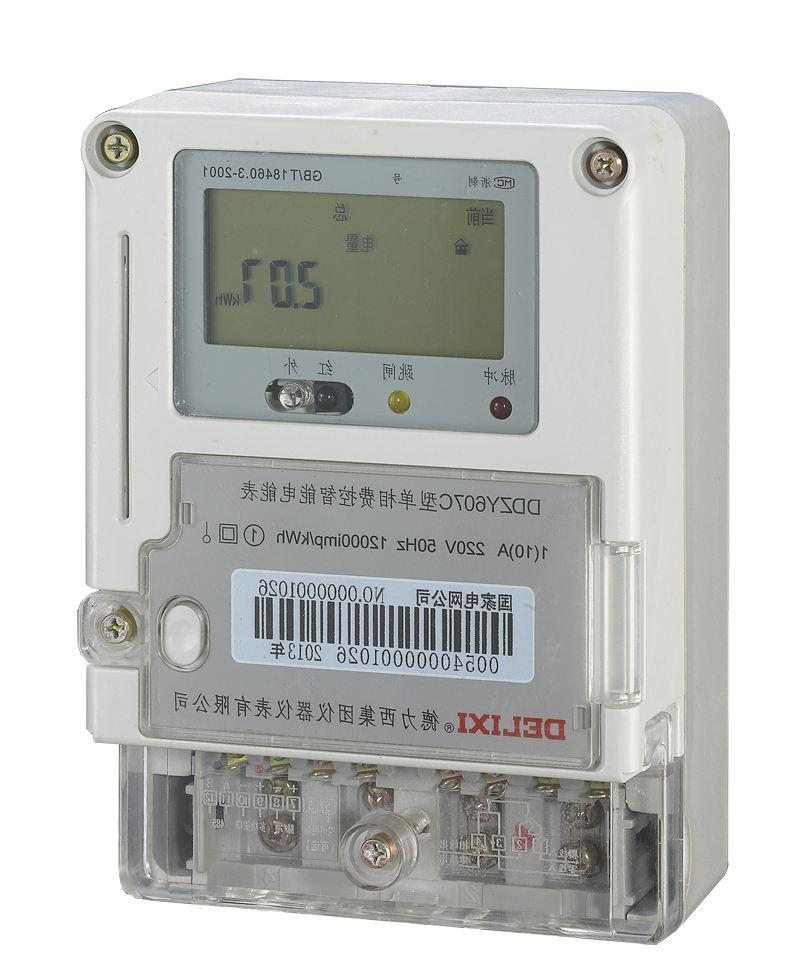digital: (82, 110, 623, 771)
